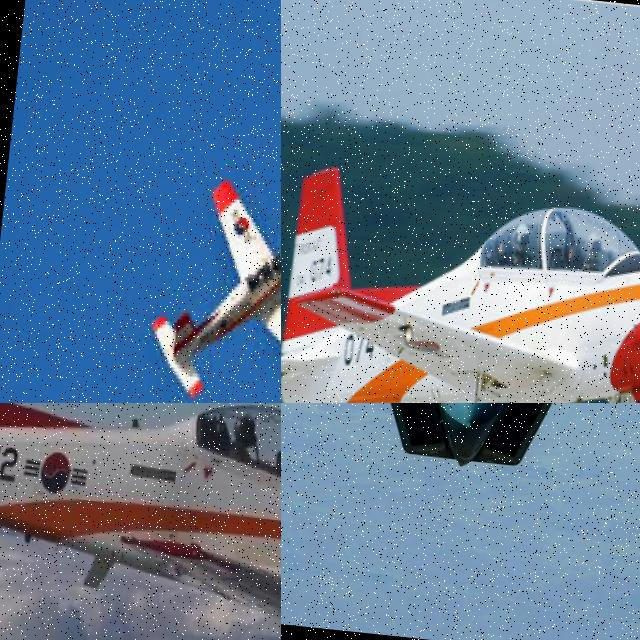F22: (281, 403, 640, 494)
KT-1: (281, 157, 640, 403), (0, 403, 281, 640), (140, 170, 281, 403)
